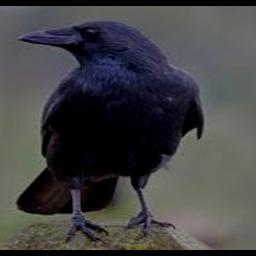Crow: (14, 20, 203, 245)
